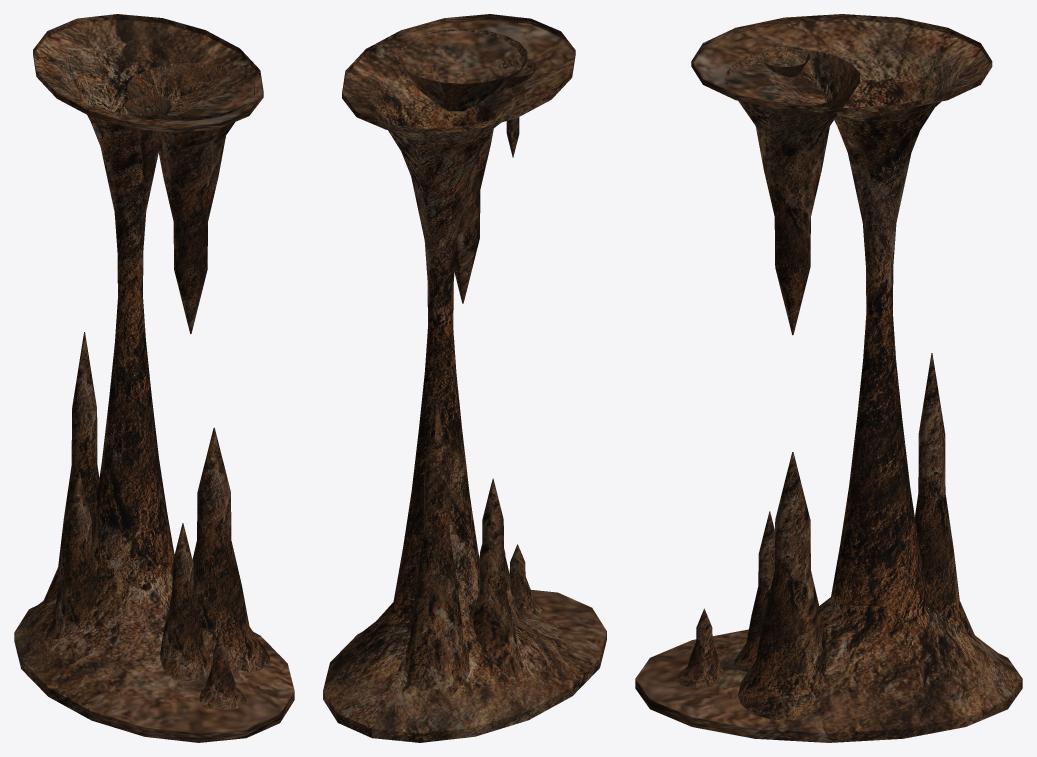
Rendered from StalagFinal.fbx.
3 views of the same model, side by side, from view 1: azimuth 30°, elevation 25°; view 2: azimuth 150°, elevation 25°; view 3: azimuth 270°, elevation 25° (orthographic). The views are drawn at different scales.
Parts seen in each view (by area): view 1: pCylinder3, pCylinder9, pCylinder7, pCylinder6, pCylinder4, pCylinder5, pCylinder8, pCylinder10; view 2: pCylinder3, pCylinder5, pCylinder9, pCylinder4, pCylinder8, pCylinder10, pCylinder6; view 3: pCylinder3, pCylinder9, pCylinder7, pCylinder5, pCylinder6, pCylinder8.
Boxes of the visible parts, x1=… form: pCylinder3: x1=14, y1=14, x2=294, y2=742; pCylinder9: x1=127, y1=62, x2=254, y2=333; pCylinder7: x1=192, y1=427, x2=269, y2=671; pCylinder6: x1=160, y1=523, x2=212, y2=680; pCylinder4: x1=45, y1=472, x2=98, y2=641; pCylinder5: x1=42, y1=332, x2=99, y2=604; pCylinder8: x1=199, y1=633, x2=246, y2=709; pCylinder10: x1=125, y1=95, x2=171, y2=195; pCylinder3: x1=323, y1=14, x2=606, y2=742; pCylinder5: x1=405, y1=399, x2=469, y2=698; pCylinder9: x1=398, y1=28, x2=527, y2=303; pCylinder4: x1=473, y1=504, x2=523, y2=680; pCylinder8: x1=509, y1=544, x2=542, y2=613; pCylinder10: x1=489, y1=57, x2=536, y2=157; pCylinder6: x1=482, y1=478, x2=525, y2=620; pCylinder3: x1=635, y1=14, x2=1022, y2=742; pCylinder9: x1=725, y1=49, x2=859, y2=335; pCylinder7: x1=738, y1=452, x2=827, y2=720; pCylinder5: x1=915, y1=353, x2=974, y2=637; pCylinder6: x1=734, y1=511, x2=774, y2=671; pCylinder8: x1=676, y1=608, x2=723, y2=687.
Bounding box in the file's own units: 0.0799 × 0.2141 × 0.1199.
Materials: 1 (1 with a texture image).
